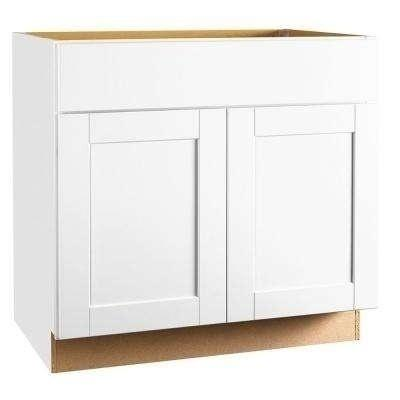cabinet_door: (62, 115, 228, 337), (227, 110, 378, 322)
